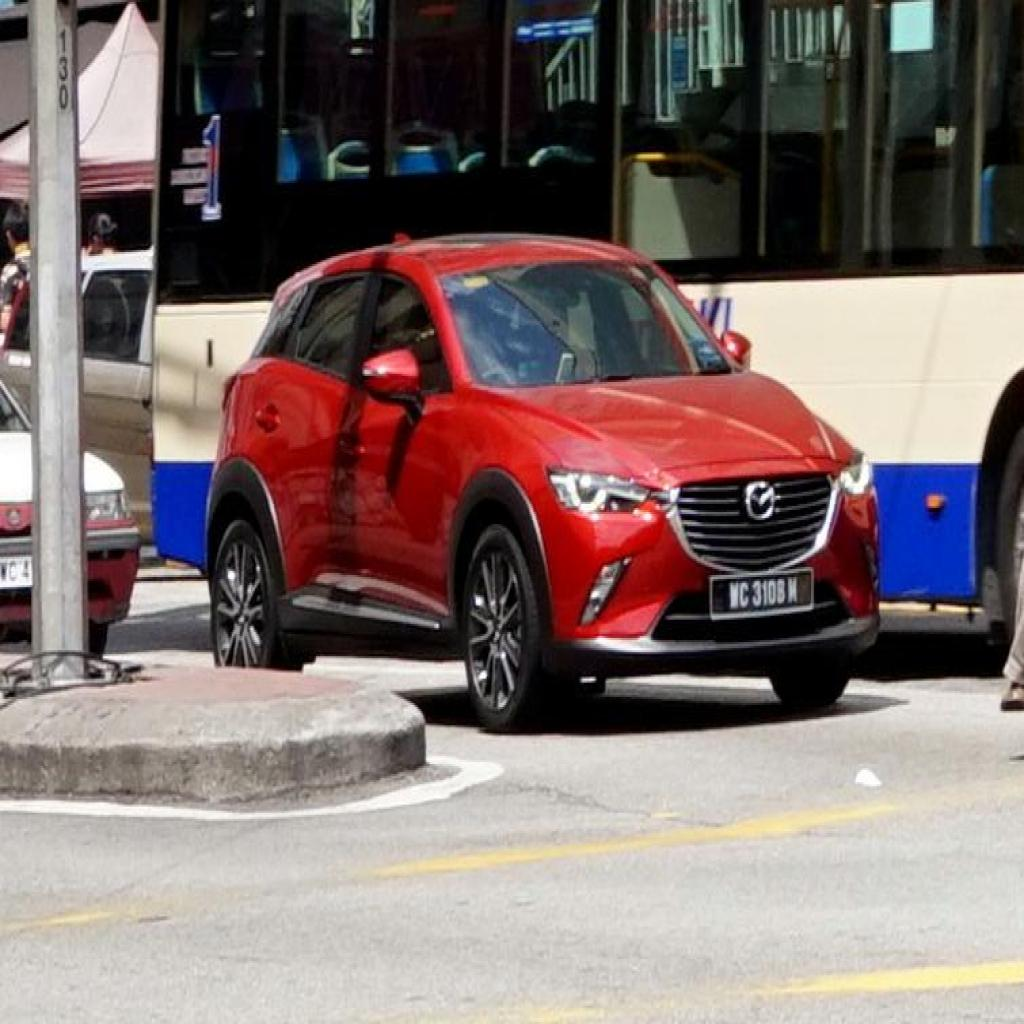car: (208, 236, 876, 727)
car plate: (711, 569, 812, 614)
